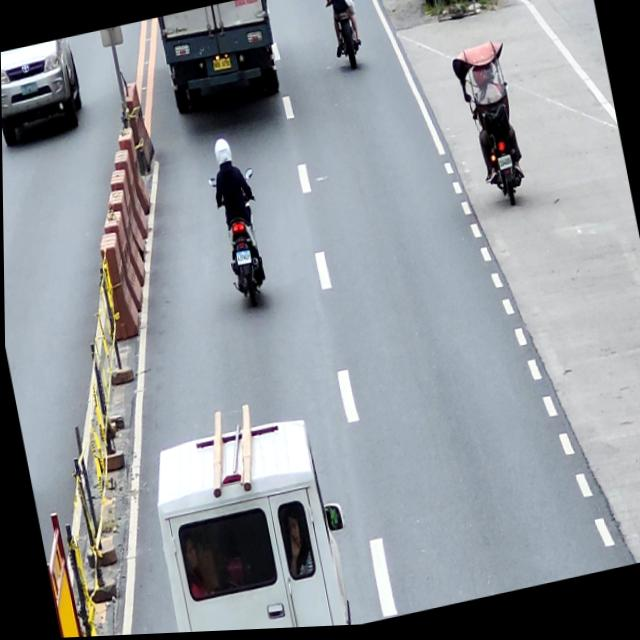Car: (140, 410, 360, 635), (0, 36, 87, 146)
License-Plate: (212, 58, 231, 73), (19, 82, 38, 97), (235, 252, 251, 267), (497, 160, 512, 174)
Motorcycle: (207, 169, 276, 315), (463, 86, 527, 215), (326, 0, 364, 74)
Truck: (157, 0, 282, 117)
